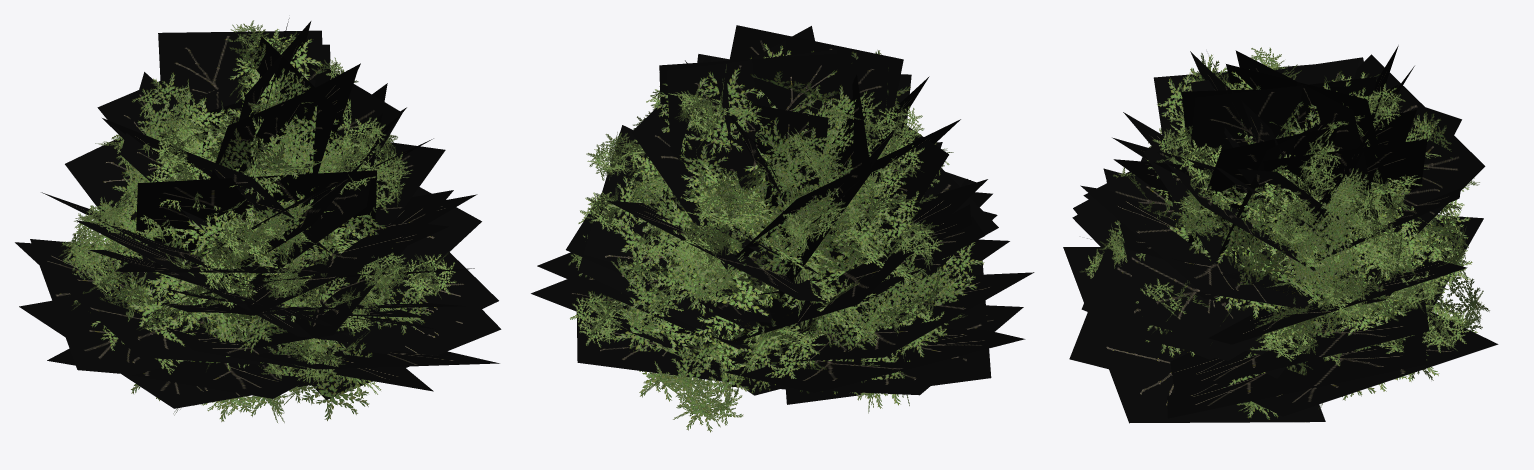
The model's file is Bush_B.fbx.
3 views of the same model, side by side, from view 1: azimuth 30°, elevation 25°; view 2: azimuth 150°, elevation 25°; view 3: azimuth 270°, elevation 25° (orthographic). The views are drawn at different scales.
Visible parts, largest first — view 1: Bush_B_LOD0; view 2: Bush_B_LOD0; view 3: Bush_B_LOD0.
Part boxes in pixels (x1,y1,x2,y2): Bush_B_LOD0: [15, 18, 501, 422]; Bush_B_LOD0: [531, 25, 1034, 432]; Bush_B_LOD0: [1063, 45, 1498, 423].
Size of what is drawn, in the model's own units: 242 by 219 by 232.
